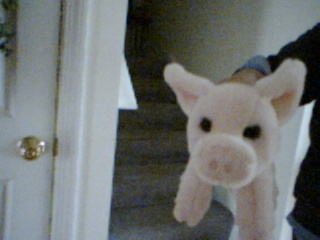piggy: (161, 56, 308, 240)
